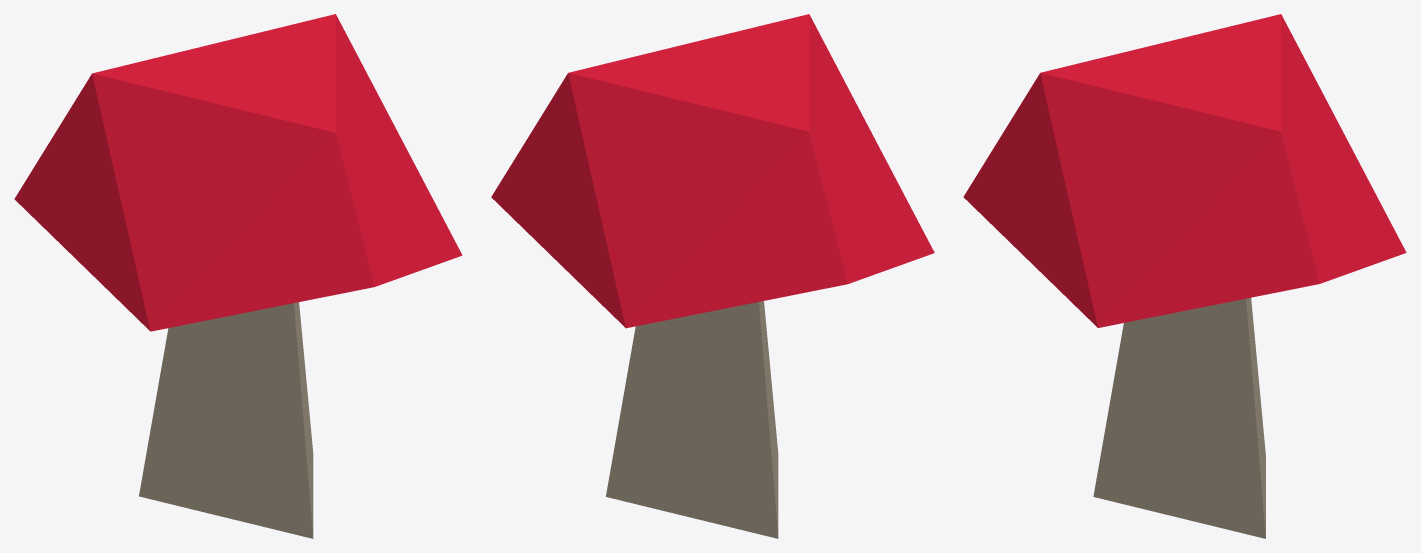
The model's file is TB_Env_Mushrm_Small_B.FBX.
3 renders of one model, left to right at view 1: azimuth 30°, elevation 25°; view 2: azimuth 150°, elevation 25°; view 3: azimuth 270°, elevation 25°, orthographic.
Visible parts, largest first — view 1: TB_Env_Mushrm_Small_B; view 2: TB_Env_Mushrm_Small_B; view 3: TB_Env_Mushrm_Small_B.
Boxes of the visible parts, left/top/right/bottom form: TB_Env_Mushrm_Small_B: left=14, top=14, right=462, bottom=538; TB_Env_Mushrm_Small_B: left=491, top=14, right=934, bottom=538; TB_Env_Mushrm_Small_B: left=963, top=14, right=1406, bottom=538.
Size of the model in its own units: 0.1017 by 0.1151 by 0.1096.
